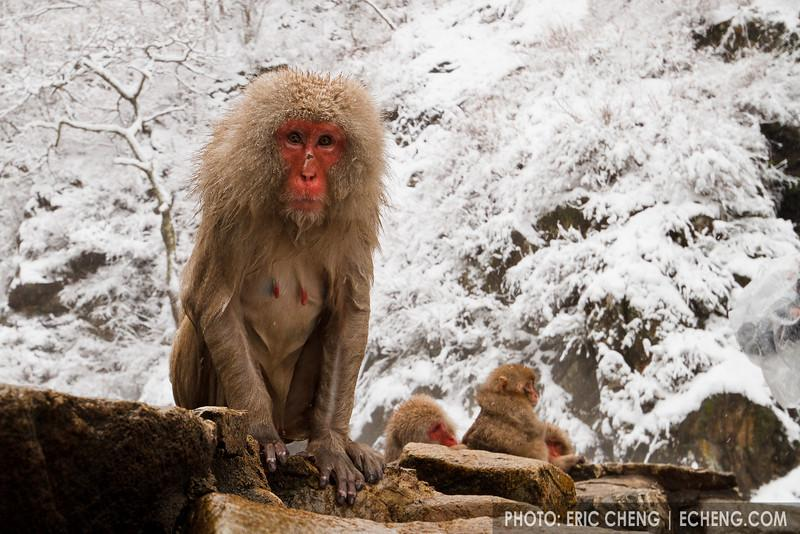monkey: (168, 66, 388, 508)
